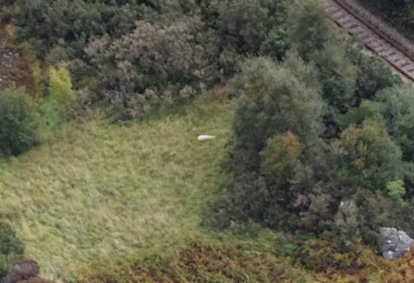white_in_green: (182, 115, 231, 156)
